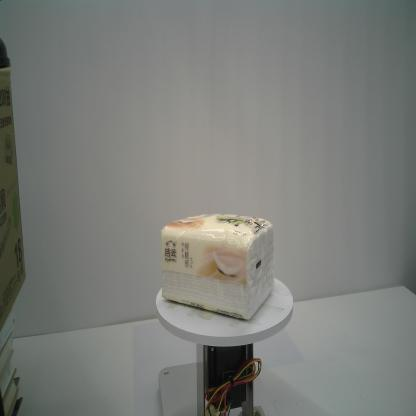Tissue: (160, 212, 274, 321)
